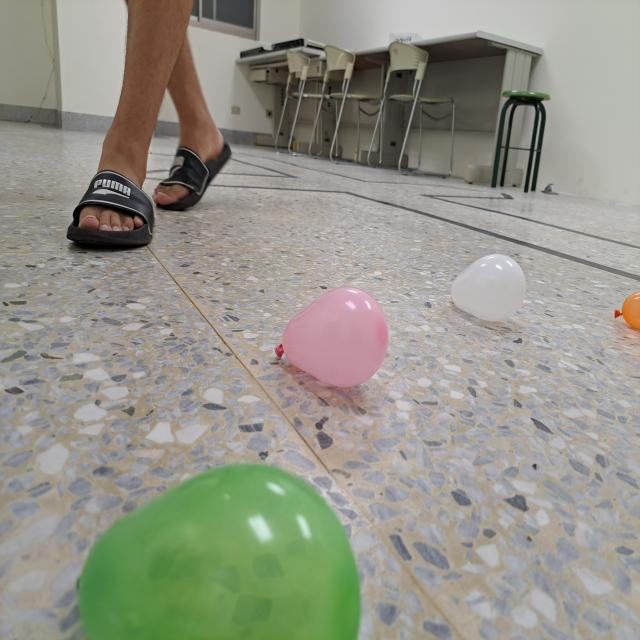other: (78, 462, 362, 640), (273, 287, 388, 388), (449, 253, 525, 322), (612, 291, 640, 330)
